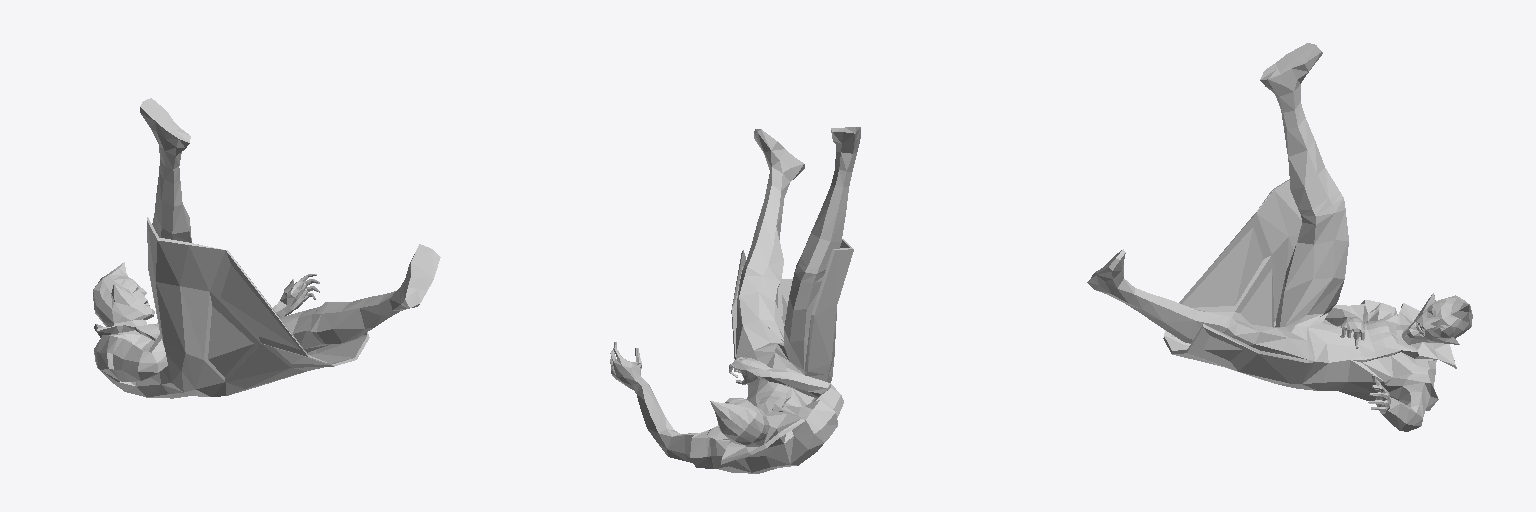
File: VampireDead(35).obj
3 renders of one model, left to right at view 1: azimuth 30°, elevation 25°; view 2: azimuth 150°, elevation 25°; view 3: azimuth 270°, elevation 25°, orthographic.
Parts seen in each view (by area): view 1: Plane002; view 2: Plane002; view 3: Plane002.
Boxes of the visible parts, <box> form: Plane002: <box>93,98,440,398</box>; Plane002: <box>610,127,860,473</box>; Plane002: <box>1087,43,1472,431</box>.
Size of the model in its own units: 172 by 249 by 264.